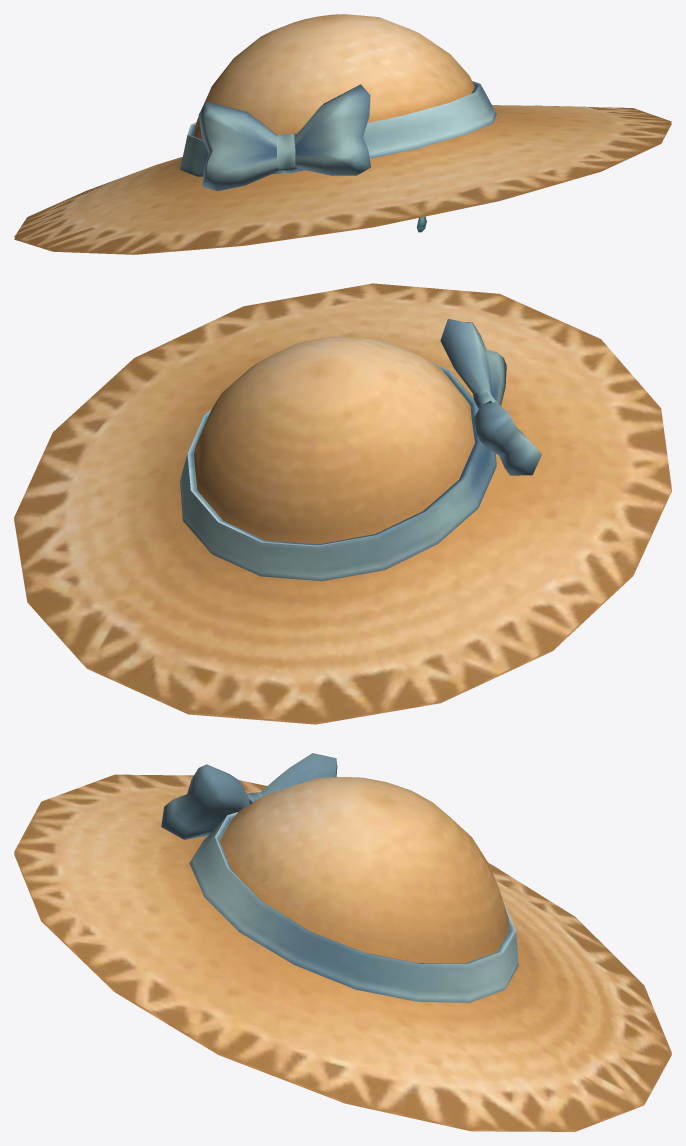
File: helm0140.fbx
The picture shows the model from 3 angles, top to bottom: view 1: azimuth 30°, elevation 25°; view 2: azimuth 150°, elevation 25°; view 3: azimuth 270°, elevation 25°; orthographic projection. The views are drawn at different scales.
Parts seen in each view (by area): view 1: helm_0140; view 2: helm_0140; view 3: helm_0140.
Part boxes in pixels (bbox=[...]): helm_0140: bbox=[14, 14, 671, 254]; helm_0140: bbox=[14, 283, 671, 724]; helm_0140: bbox=[14, 753, 671, 1131].
Bounding box in the file's own units: 0.8791 × 0.3624 × 0.8176.
